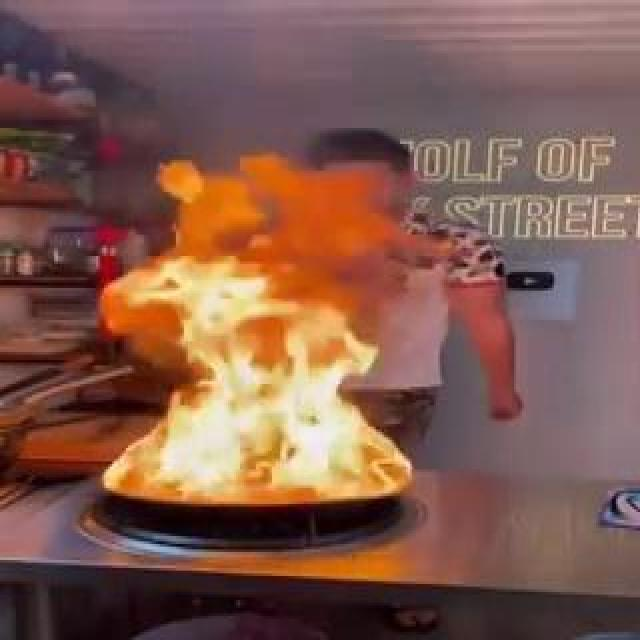Fire: (277, 312, 358, 400)
